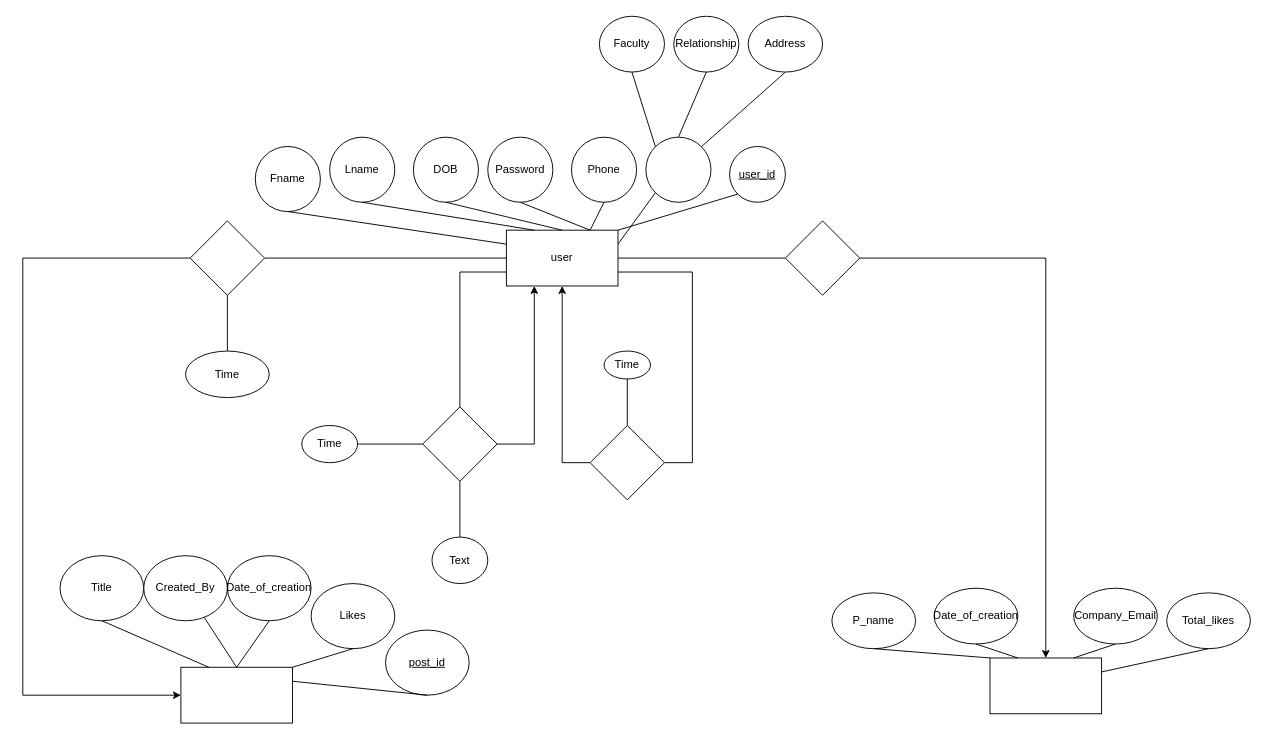
Some shapes in this 1267 by 739 pixel diagram are drawn without their labels. Here are the shapes that lost their labels. From the top down, the centre of each, then its label:
pixel 678 169: About
pixel 227 257: Post
pixel 822 257: follows
pixel 459 443: Chat
pixel 626 462: Friend with
pixel 236 694: Posts
pixel 1045 685: page
